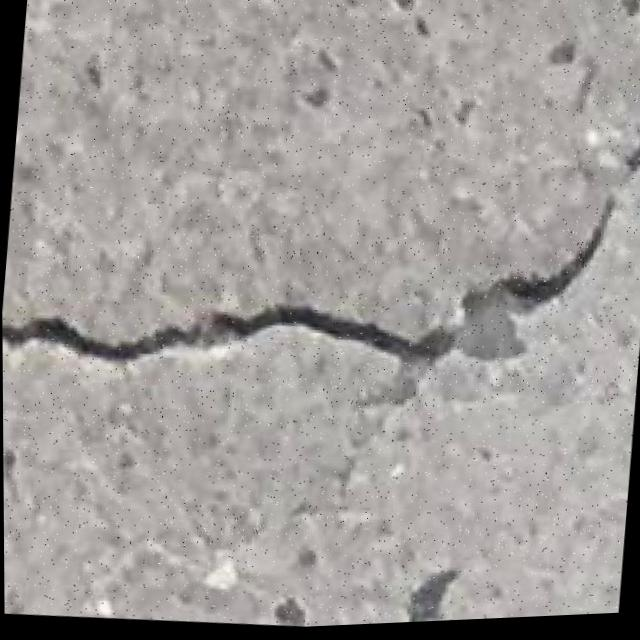Crack: (1, 66, 640, 432)
